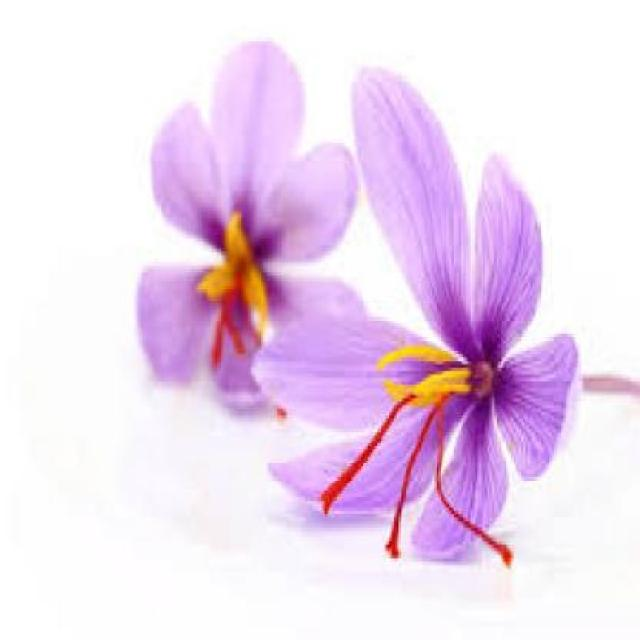Flower: (264, 62, 582, 555), (143, 28, 368, 432)
stigma: (432, 415, 522, 571), (314, 398, 414, 519), (381, 398, 448, 562), (207, 281, 237, 376), (221, 294, 251, 356)
